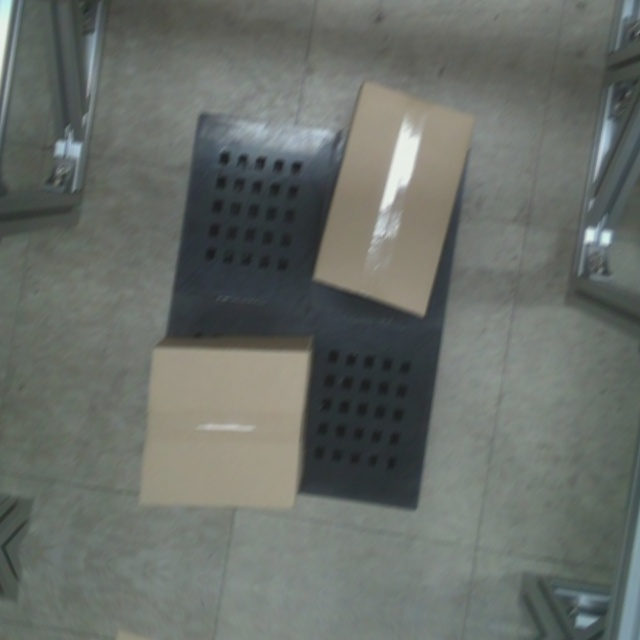box: (122, 315, 328, 540), (307, 75, 480, 325)
